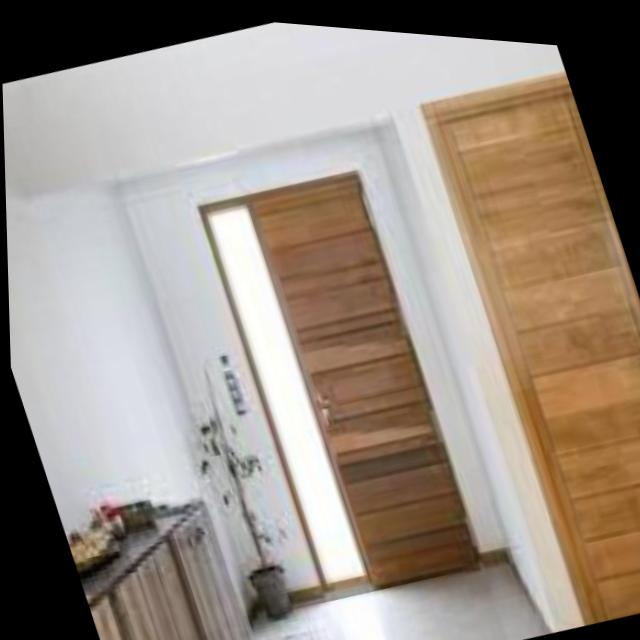door_handle: (311, 391, 339, 436), (613, 329, 640, 375)
